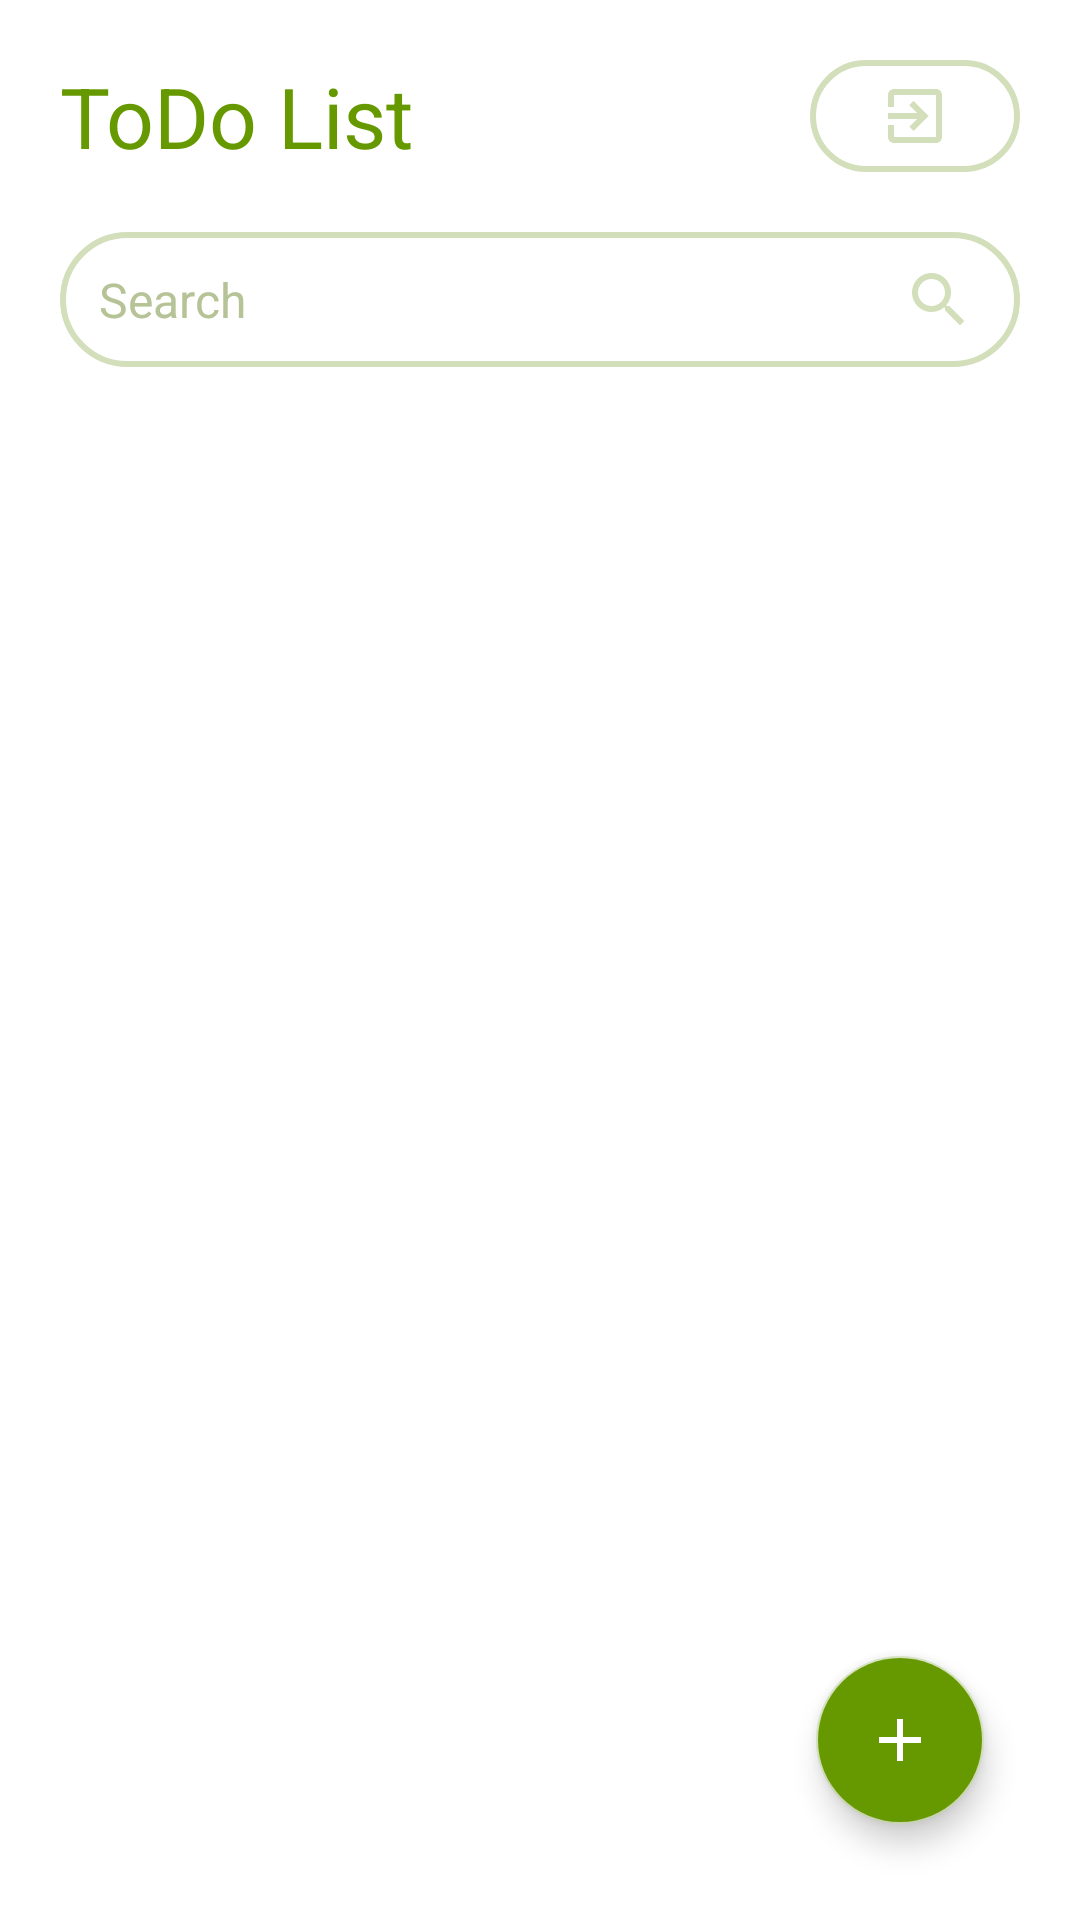

Point at icon controls on the screen. Image size 1080w x 1920h, points as (x,y).
Add todo: (900,1740)
exit to app: (915,116)
